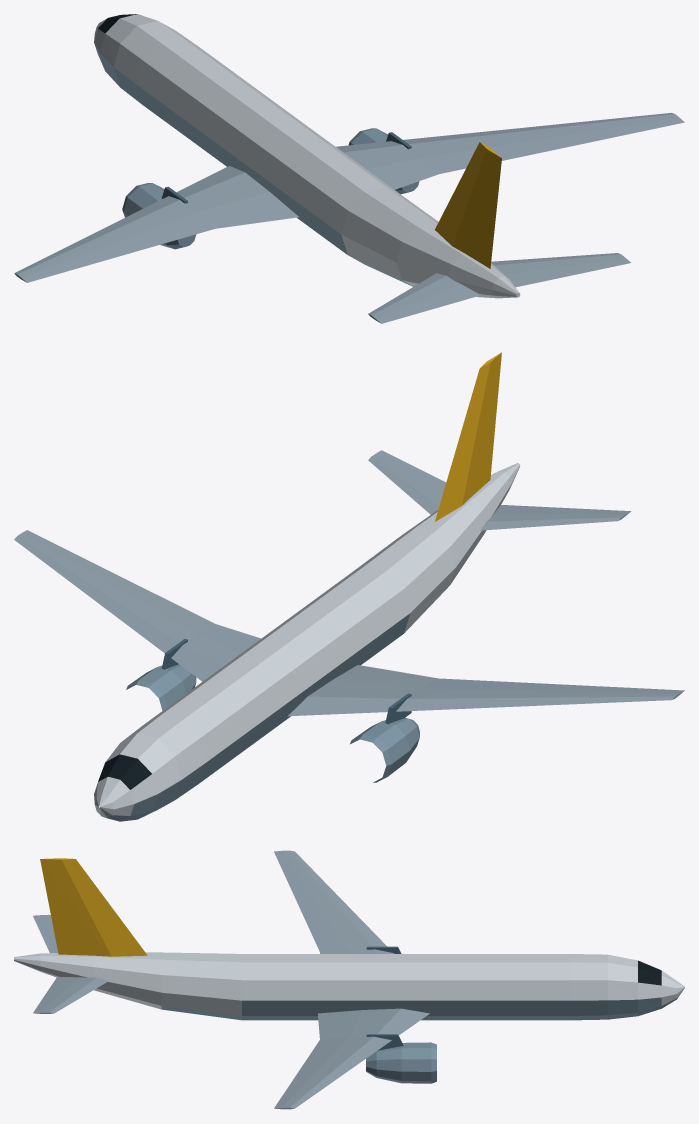
Rendered from BCS3.glb.
3 renders of one model, top to bottom at view 1: azimuth 30°, elevation 25°; view 2: azimuth 150°, elevation 25°; view 3: azimuth 270°, elevation 25°, orthographic. The views are drawn at different scales.
Visible parts, largest first — view 1: lod0; view 2: lod0; view 3: lod0.
Part boxes in pixels (left/top/right/bottom): lod0: left=14, top=14, right=684, bottom=323; lod0: left=14, top=352, right=684, bottom=821; lod0: left=14, top=850, right=684, bottom=1109.
Size of what is drawn, in the model's own units: 0.9067 by 0.2933 by 1.
